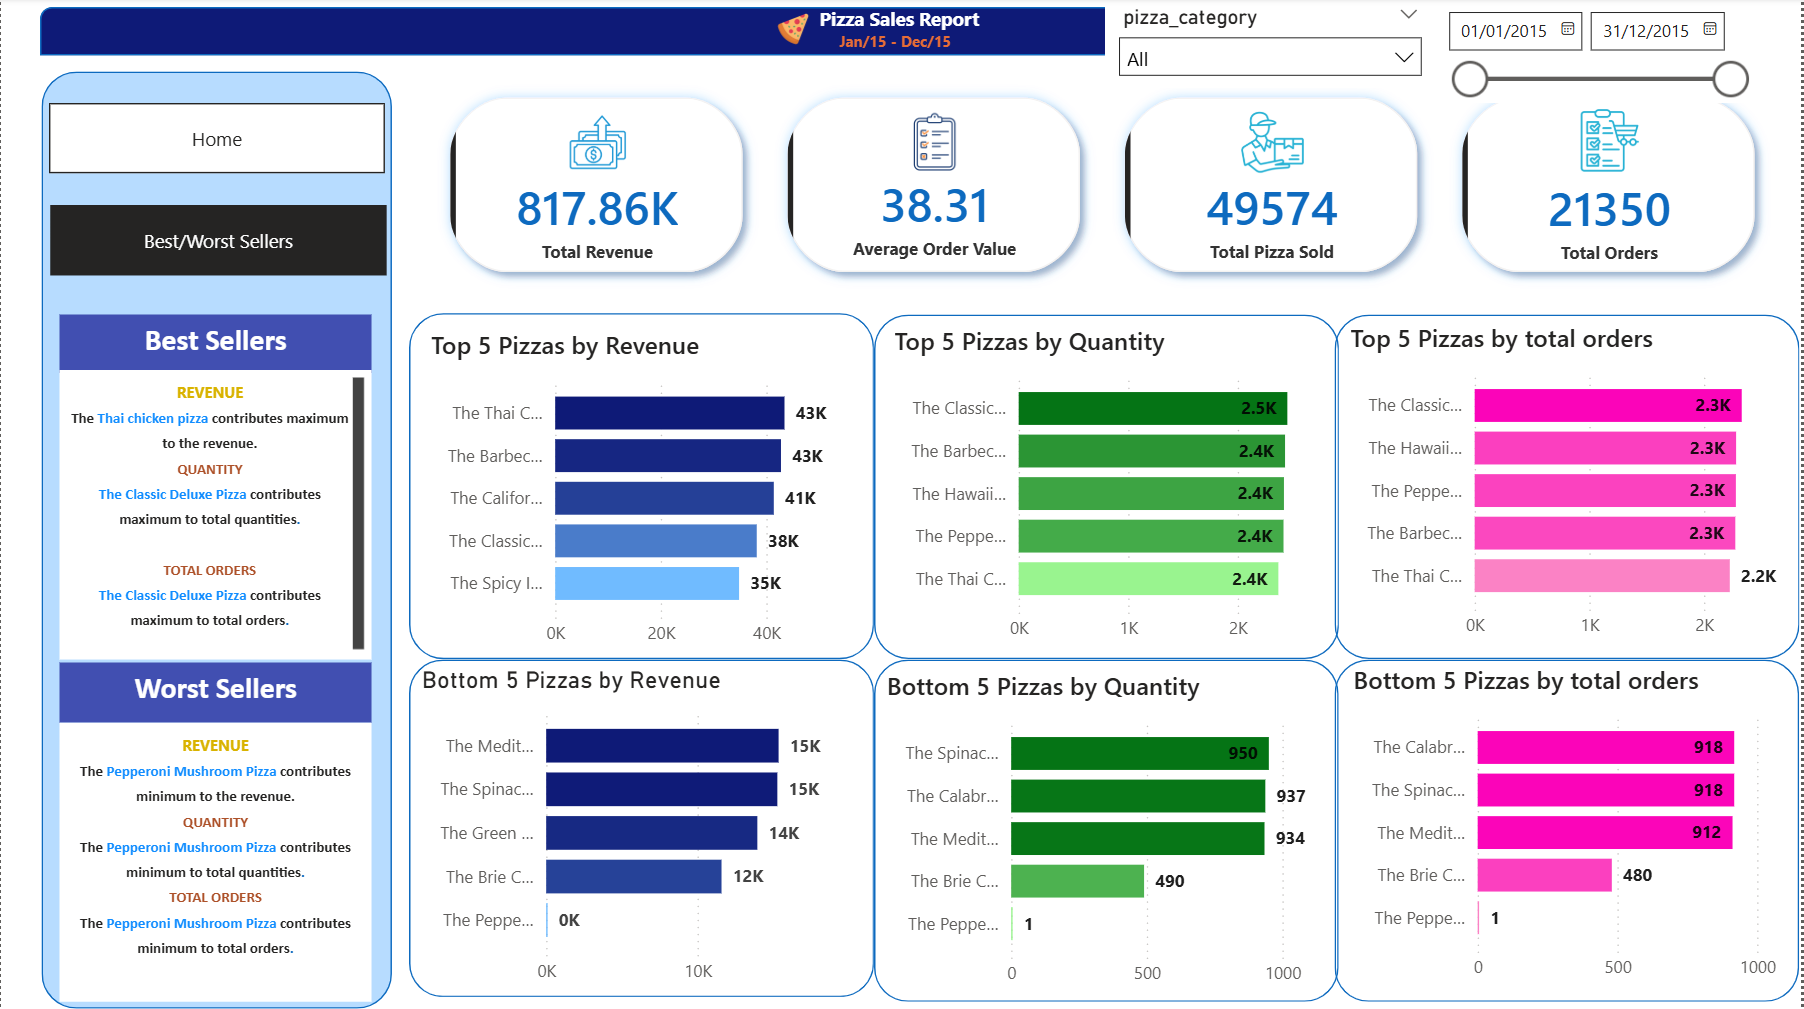

The dashboard page shown, as its layout file describes it:
{"tool":"powerbi","page":{"name":"Best/Worst Sellers","canvas":[1280,720],"ordinal":1},"visuals":[{"type":"shape","box":[290.5,224.3,330.9,246.4],"z":0},{"type":"cardVisual","fields":{"Data":["pizza_sales.Total Revenue","pizza_sales.Average Order Value","pizza_sales.Total Pizza Sold","pizza_sales.Total Orders"]},"box":[290.7,41.3,988.9,182.4],"z":2000},{"type":"shape","box":[28.1,6.3,1224.2,34.5],"z":3000},{"type":"textbox","box":[577.6,0,140.6,29],"z":4000},{"type":"textbox","box":[591.2,14.5,97,38.1],"z":5000},{"type":"image","box":[549.5,10.9,28.1,22.7],"z":6000},{"type":"shape","box":[28.5,52.7,249.4,666.8],"z":15000},{"type":"textbox","box":[41.3,225.1,222.3,41.3],"z":16000},{"type":"textbox","box":[41.6,264.7,222,206],"z":17000},{"type":"textbox","box":[41.6,515.5,222,198.5],"z":18000},{"type":"textbox","box":[41.3,473.1,222.3,42.7],"z":19000},{"type":"slicer","fields":{"Values":["pizza_sales.pizza_category"]},"box":[785.1,0,235.1,64.1],"z":20000},{"type":"slicer","fields":{"Values":["pizza_sales.order_date"]},"box":[1017.4,0,235.1,74.1],"z":21000},{"type":"shape","box":[621.4,225.5,330.9,245.1],"z":21001},{"type":"shape","box":[948.7,225.5,330.9,245.1],"z":21002},{"type":"shape","box":[290.5,470.7,330.9,240.2],"z":21003},{"type":"shape","box":[621.2,470.2,330.6,243.7],"z":21004},{"type":"shape","box":[949,470.2,330.6,243.7],"z":21005},{"type":"barChart","title":"Top 5 Pizzas by Revenue","fields":{"Category":["pizza_sales.pizza_name"],"Y":["pizza_sales.Total Revenue"]},"box":[300.6,235.1,320.6,235.1],"z":21006},{"type":"barChart","title":"Bottom 5 Pizzas by Revenue","fields":{"Category":["pizza_sales.pizza_name"],"Y":["pizza_sales.Total Revenue"]},"box":[294.9,474.5,320.6,235.1],"z":21007},{"type":"barChart","title":"Top 5 Pizzas by Quantity","fields":{"Category":["pizza_sales.pizza_name"],"Y":["pizza_sales.Total Pizza Sold"]},"box":[630.9,231.3,320.7,234.9],"z":21008},{"type":"barChart","title":"Bottom 5 Pizzas by Quantity","fields":{"Category":["pizza_sales.pizza_name"],"Y":["pizza_sales.Total Pizza Sold"]},"box":[625.7,476.7,320.7,234.9],"z":21009},{"type":"barChart","title":"Top 5 Pizzas by total orders","fields":{"Category":["pizza_sales.pizza_name"],"Y":["pizza_sales.Total Orders"]},"box":[955.2,229.6,320.7,234.9],"z":21010},{"type":"barChart","title":"Bottom 5 Pizzas by total orders","fields":{"Category":["pizza_sales.pizza_name"],"Y":["pizza_sales.Total Orders"]},"box":[956.9,473.2,320.7,234.9],"z":21011},{"type":"pageNavigator","box":[34.5,74.5,239,50],"z":21012},{"type":"pageNavigator","box":[35.6,146.8,239,50],"z":21013}]}

Visuals, with their boxes in screenshot pixels (x1, y1, x2, y2), scaled from the page's 1280x720 canvas onto the 1804x1009 screenshot:
shape: box(409, 314, 876, 660)
cardVisual - pizza_sales.Total Revenue x pizza_sales.Average Order Value: box(410, 58, 1803, 313)
shape: box(40, 9, 1765, 57)
textbox: box(814, 0, 1012, 41)
textbox: box(833, 20, 970, 74)
image: box(774, 15, 814, 47)
shape: box(40, 74, 392, 1008)
textbox: box(58, 315, 372, 373)
textbox: box(59, 371, 372, 660)
textbox: box(59, 722, 372, 1001)
textbox: box(58, 663, 372, 723)
slicer - pizza_sales.pizza_category: box(1107, 0, 1438, 90)
slicer - pizza_sales.order_date: box(1434, 0, 1765, 104)
shape: box(876, 316, 1342, 659)
shape: box(1337, 316, 1803, 659)
shape: box(409, 660, 876, 996)
shape: box(876, 659, 1341, 1000)
shape: box(1337, 659, 1803, 1000)
"Top 5 Pizzas by Revenue" barChart: box(424, 329, 876, 659)
"Bottom 5 Pizzas by Revenue" barChart: box(416, 665, 867, 994)
"Top 5 Pizzas by Quantity" barChart: box(889, 324, 1341, 653)
"Bottom 5 Pizzas by Quantity" barChart: box(882, 668, 1334, 997)
"Top 5 Pizzas by total orders" barChart: box(1346, 322, 1798, 651)
"Bottom 5 Pizzas by total orders" barChart: box(1349, 663, 1801, 992)
pageNavigator: box(49, 104, 385, 174)
pageNavigator: box(50, 206, 387, 276)
